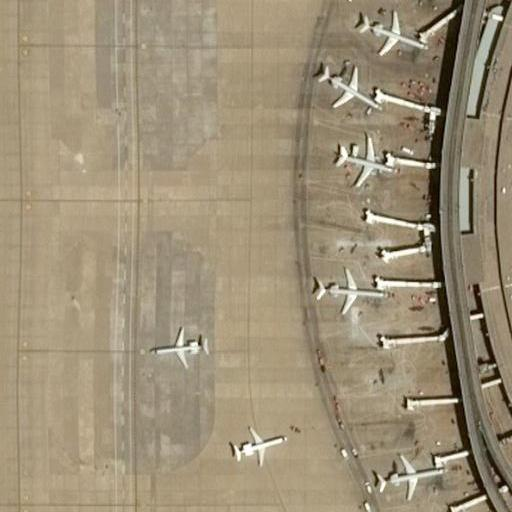Aircraft: (308, 57, 378, 114), (313, 268, 389, 317), (326, 132, 395, 183), (372, 451, 442, 501), (352, 7, 421, 56), (150, 326, 208, 371), (230, 421, 282, 465)
